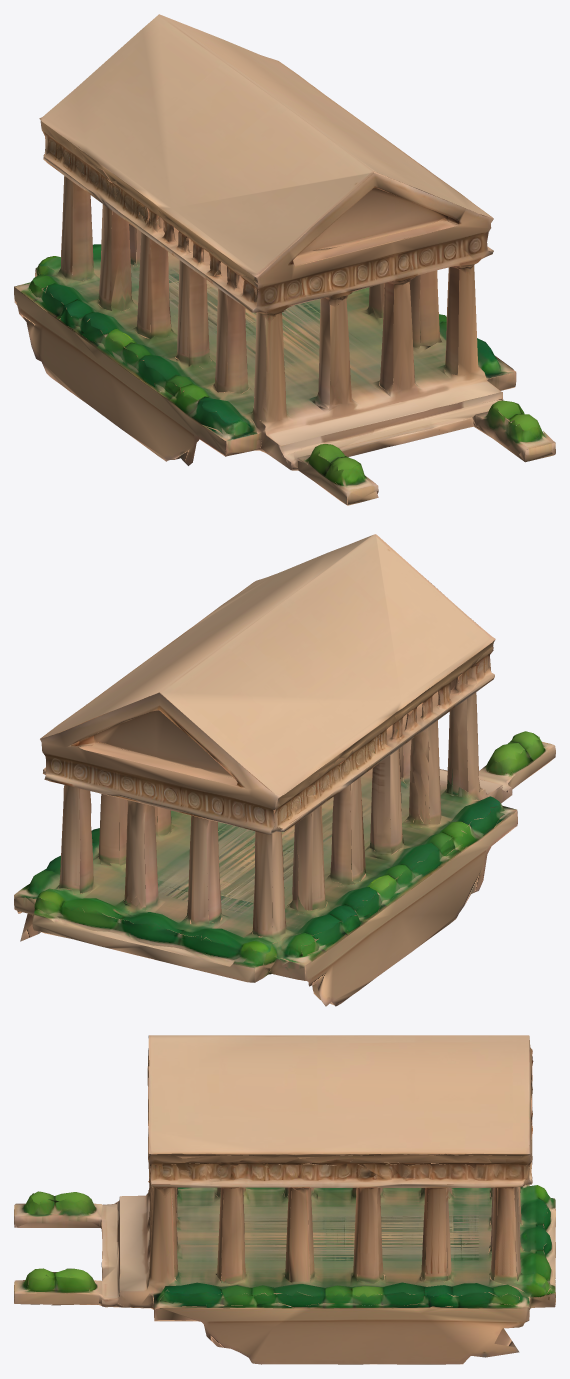
Rendered from Temple.fbx.
The picture shows the model from 3 angles, top to bottom: view 1: azimuth 30°, elevation 25°; view 2: azimuth 150°, elevation 25°; view 3: azimuth 270°, elevation 25°; orthographic projection. The views are drawn at different scales.
Parts seen in each view (by area): view 1: Temple; view 2: Temple; view 3: Temple.
Boxes of the visible parts, x1,y1,x2,y2 form: Temple: (14,14,555,505); Temple: (14,534,555,1006); Temple: (14,1035,555,1364).
Size of the model in its own units: 16.48 by 16.31 by 30.
Materials: 1 (1 with a texture image).
